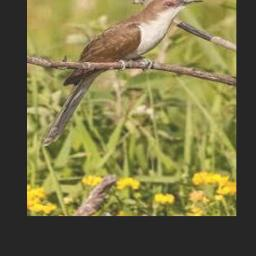Cuckoo: (41, 0, 204, 145)
